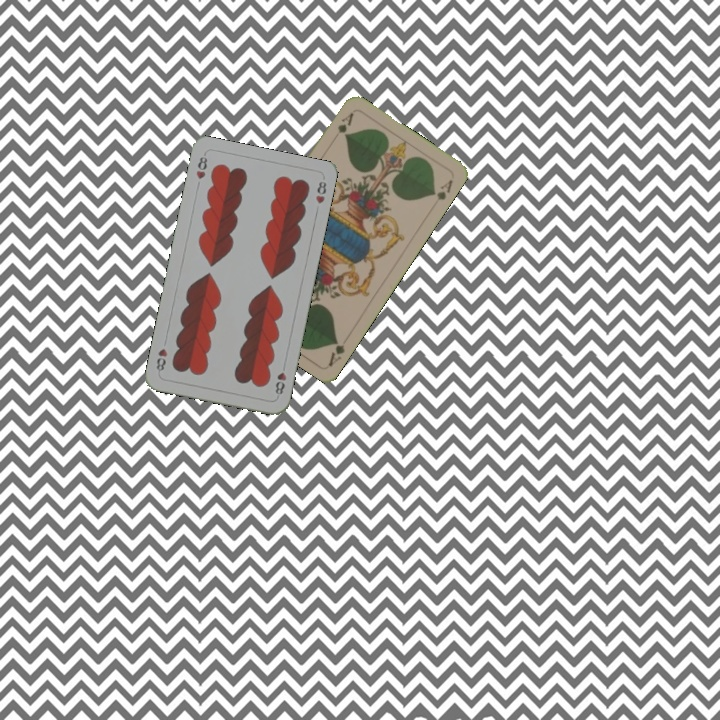GA: (328, 108, 356, 144), (324, 336, 347, 368)
H8: (192, 150, 210, 182), (271, 368, 289, 397)
